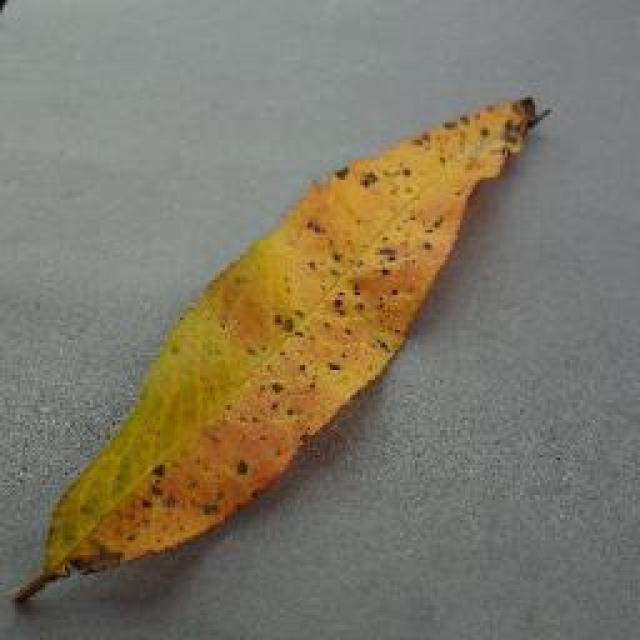Peach_Bacterial_Spot: (256, 200, 422, 465)
